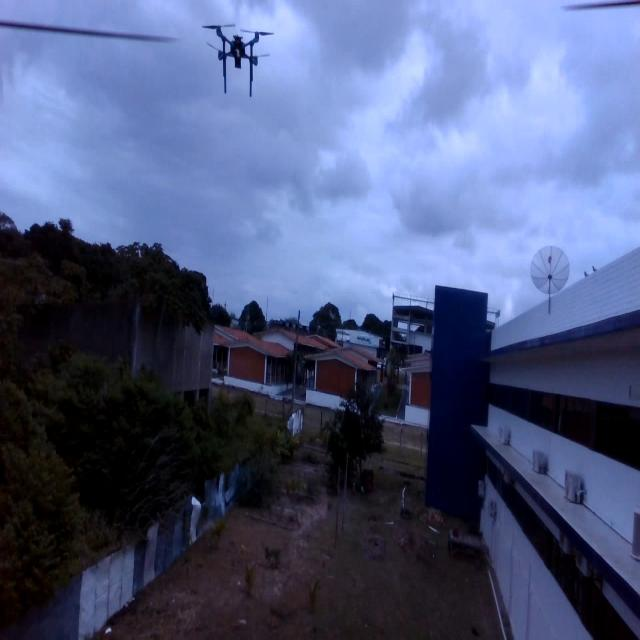-uav-: (201, 16, 280, 101)
